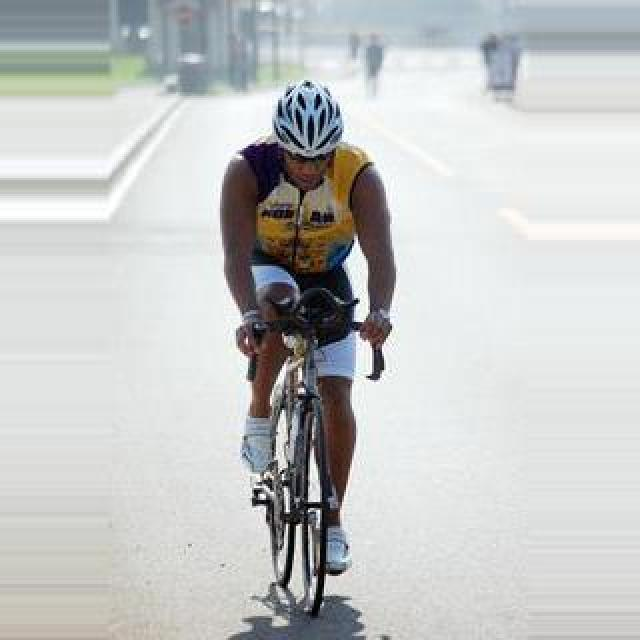MC-Bike: (222, 60, 398, 604)
Person: (238, 276, 364, 614)
